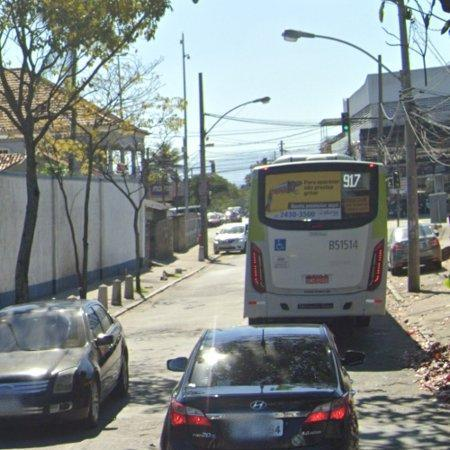buses: (245, 156, 388, 324)
